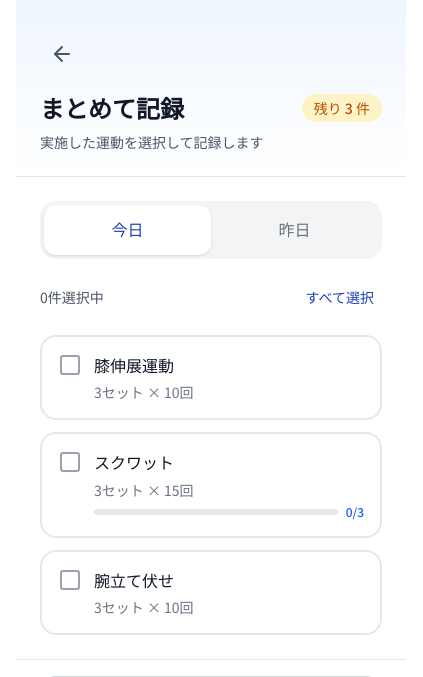
U-15 BatchRecord › date toggle › should show yesterday subtitle when yesterday is selected
Expected: the text "実施した運動を選択して記録します" is shown, 40,132 -> 264,152
Click the radio button labelled "昨日". click: (294, 230)
box: 211,205 -> 378,255
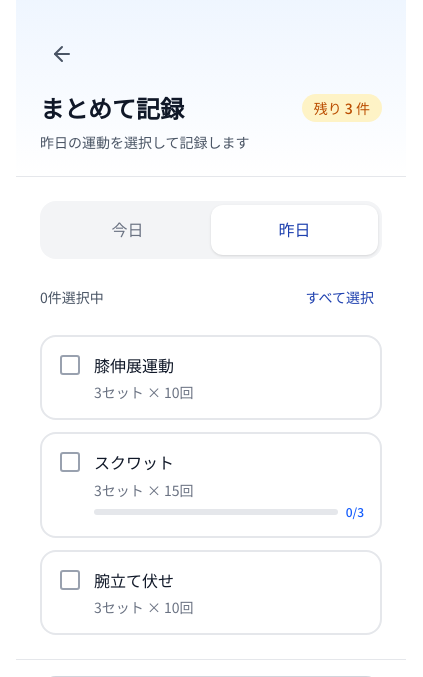
Expected: the text "昨日の運動を選択して記録します" is shown, 40,132 -> 250,152
